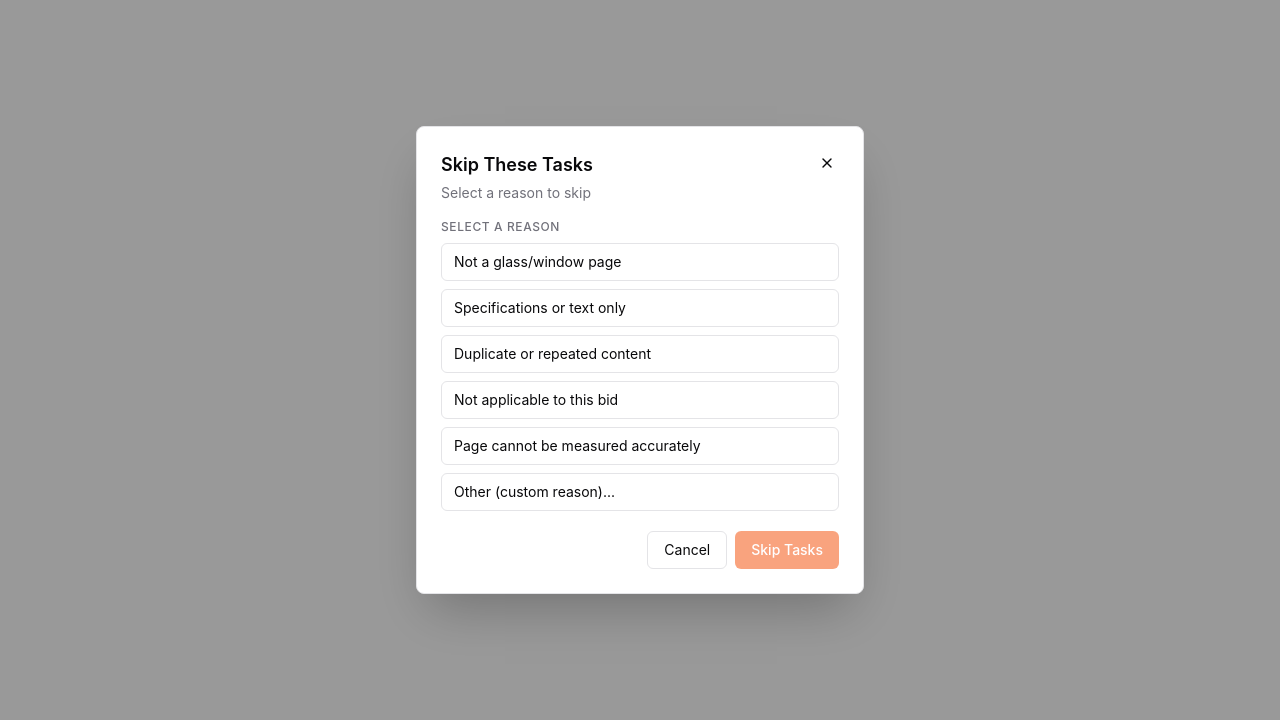
Test case: SkipReasonDialog › shows textarea when custom reason is selected
This screenshot has width=1280, height=720.
Click the button "Other (custom reason)..." at (535, 492), box [441,473,839,511]
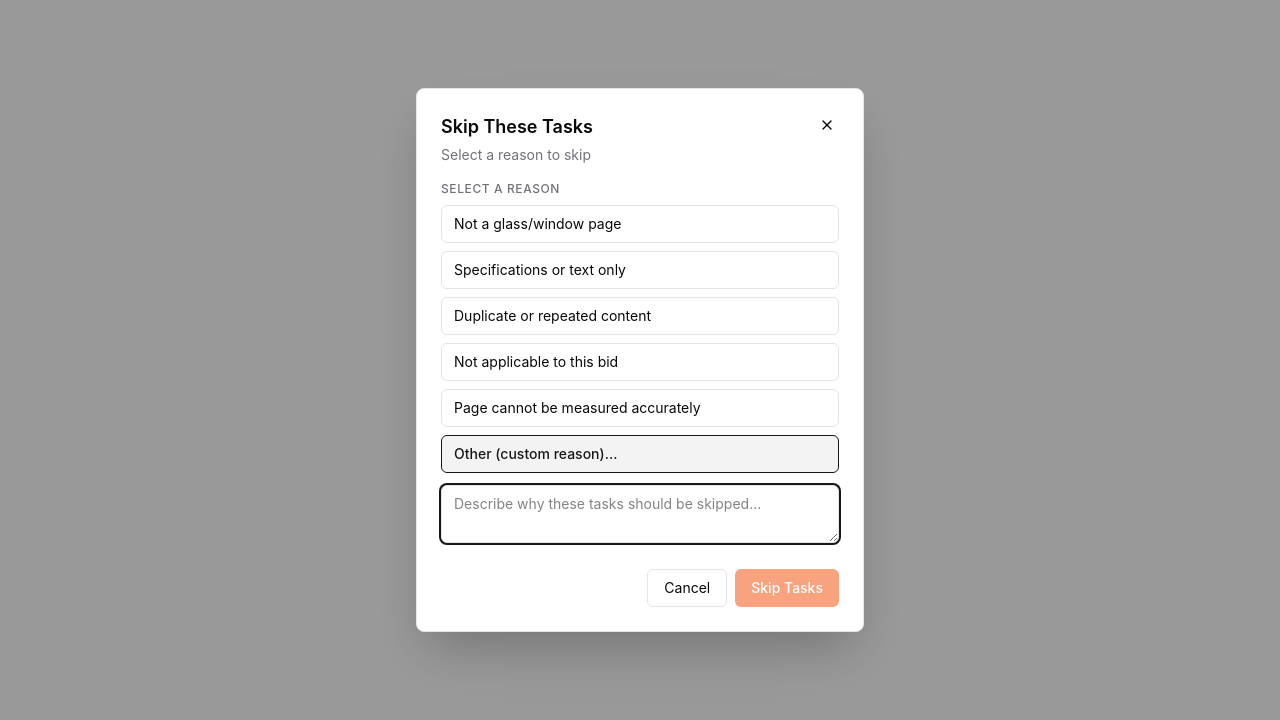
Now the text box with placeholder "Describe why these tasks should be skipped..." is shown, box [441,485,839,543]
